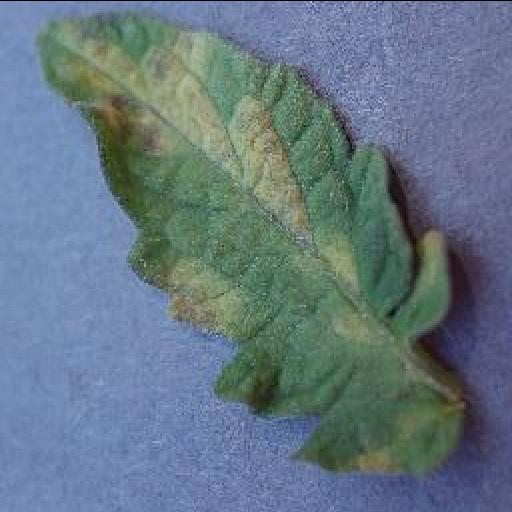disease_tomato: (34, 12, 472, 477)
